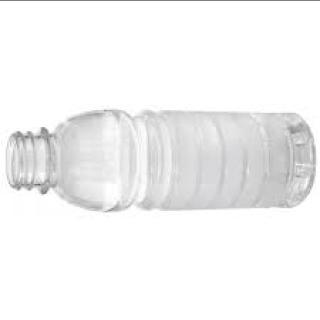Anorganik: (2, 105, 314, 218)
